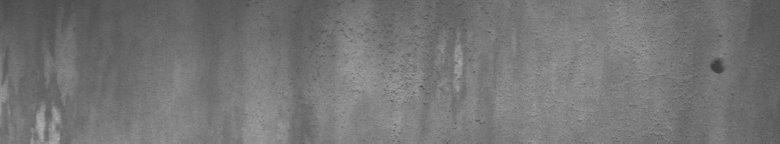fi: (708, 52, 728, 79)
